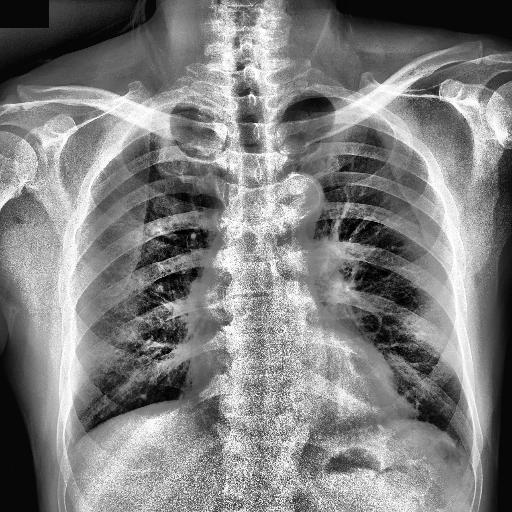0- Aortic enlargement: (270, 168, 324, 236), (270, 172, 325, 228), (275, 173, 323, 220)
3- Cardiomegaly: (185, 338, 397, 418)
